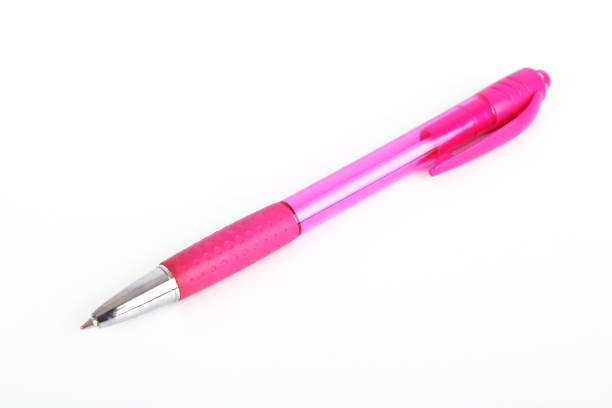pen: (68, 60, 563, 338)
